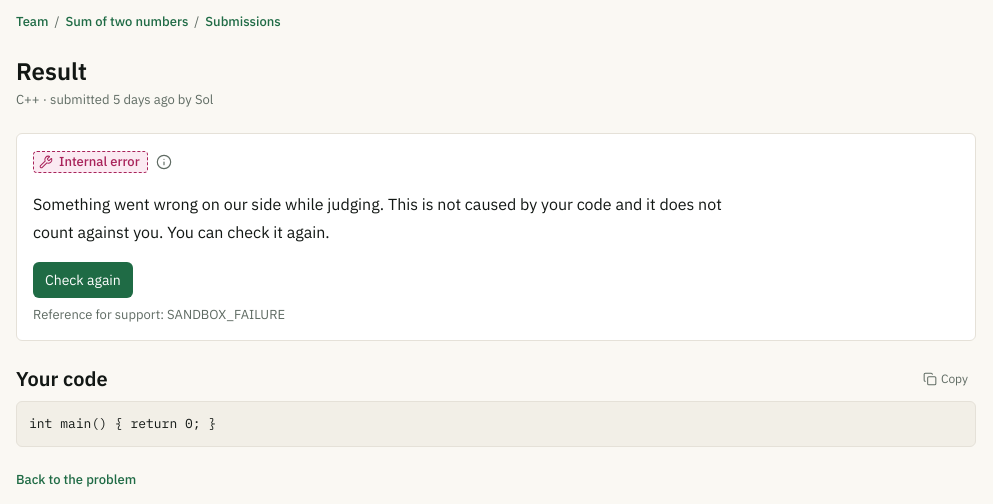
the result of a submission (GRD-49) › a system error › is said not to be the solver’s fault, with a way to check again
Expected: the text "not caused by your code" is shown, [33,194,722,242]
Expected: the text "Reference for support: SANDBOX_FAILURE" is shown, [33,306,285,324]
Click the button "Check again": click(83, 280) [33,262,133,298]
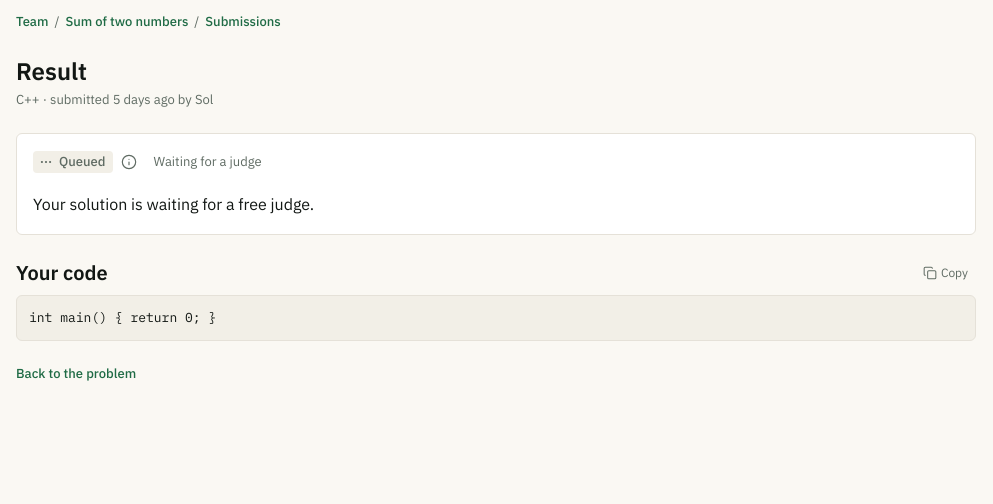
Expected: the text "Waiting for a judge" is shown, [154,153,262,171]
